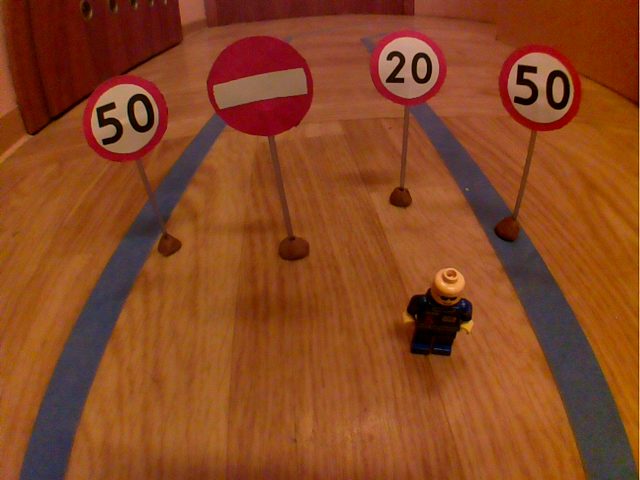Ograniczenie 20: (367, 26, 450, 111)
Ograniczenie 50: (77, 71, 174, 167), (494, 38, 586, 137)
Postac LEGO: (397, 262, 485, 369)
Zakaz: (201, 30, 317, 141)
